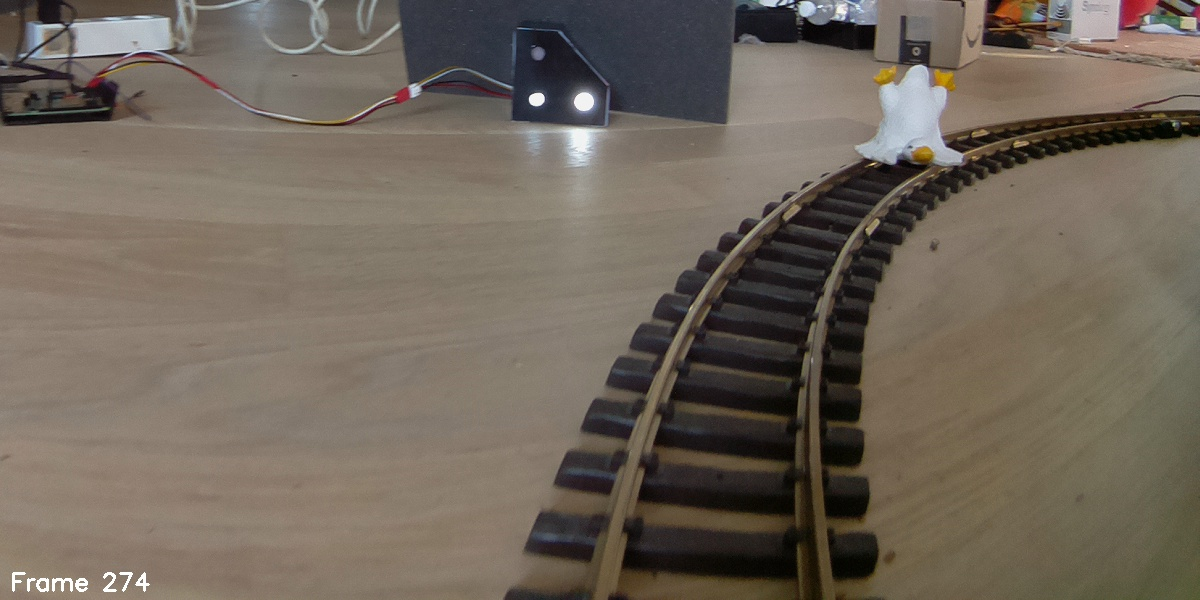Ente: (856, 64, 969, 173)
Halt: (512, 23, 609, 125)
